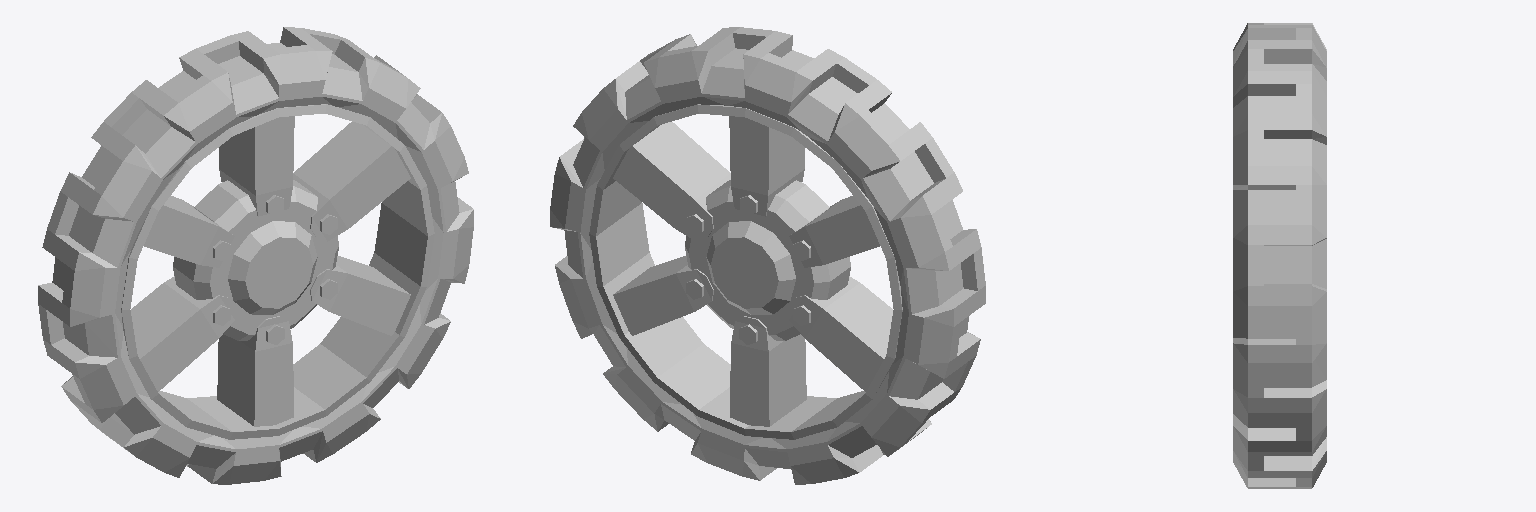
Rendered from obj_interactive_fant_offroad_wheel_7b.obj.
3 views of the same model, side by side, from view 1: azimuth 30°, elevation 25°; view 2: azimuth 150°, elevation 25°; view 3: azimuth 270°, elevation 25° (orthographic).
Parts seen in each view (by area): view 1: obj_interactive_fant_offroad_wheel_7_Mesh; view 2: obj_interactive_fant_offroad_wheel_7_Mesh; view 3: obj_interactive_fant_offroad_wheel_7_Mesh.
Boxes of the visible parts, x1,y1,x2,y2 form: obj_interactive_fant_offroad_wheel_7_Mesh: [38, 27, 473, 484]; obj_interactive_fant_offroad_wheel_7_Mesh: [550, 27, 985, 484]; obj_interactive_fant_offroad_wheel_7_Mesh: [1233, 23, 1326, 488].
Size of the model in its own units: 5 by 5 by 1.